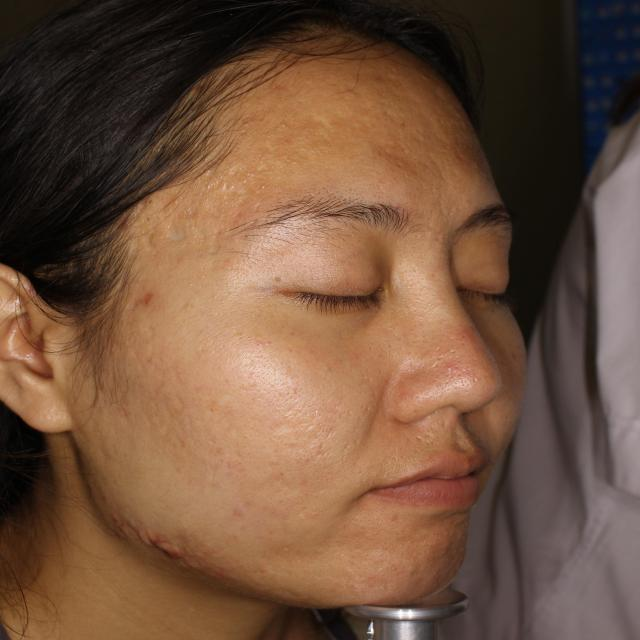nodule: (137, 521, 206, 566)
